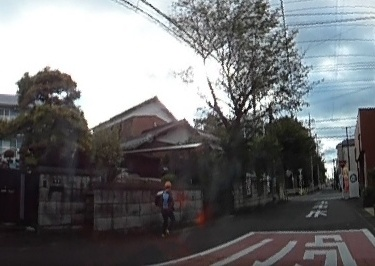person: (159, 180, 177, 235)
